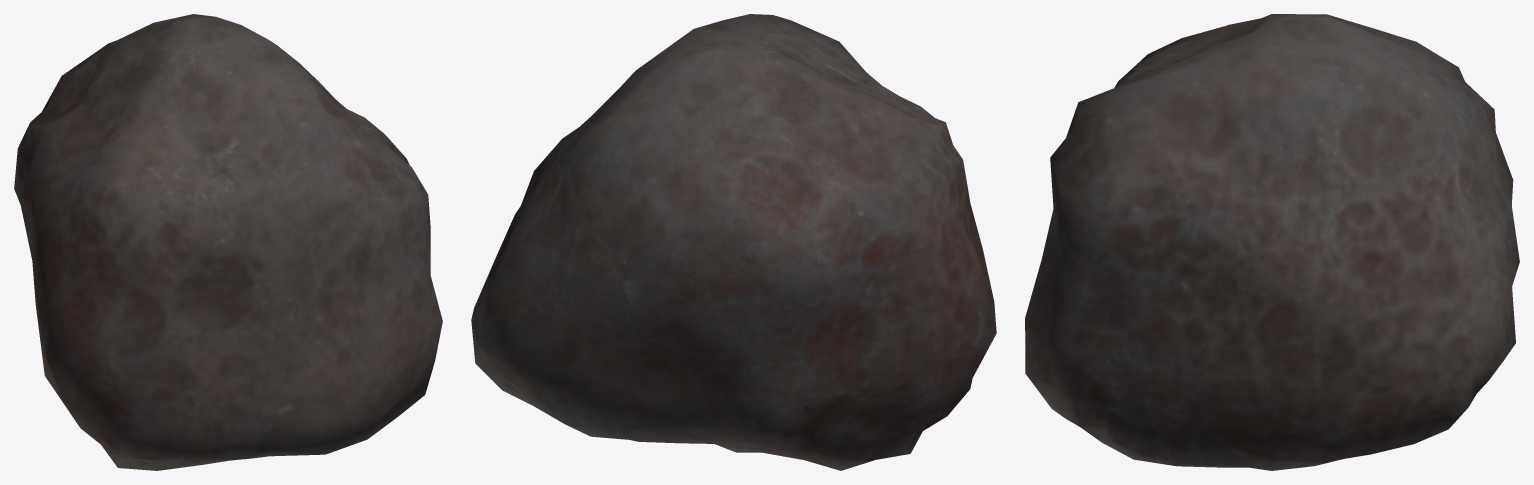
File: asteroid4.dae
3 renders of one model, left to right at view 1: azimuth 30°, elevation 25°; view 2: azimuth 150°, elevation 25°; view 3: azimuth 270°, elevation 25°, orthographic. The views are drawn at different scales.
Parts seen in each view (by area): view 1: Lp04; view 2: Lp04; view 3: Lp04.
Part boxes in pixels (x1,y1,x2,y2): Lp04: (14, 14, 442, 470); Lp04: (471, 14, 996, 470); Lp04: (1025, 14, 1519, 470).
Bounding box in the file's own units: 7.14 × 6.82 × 7.13.
1 material, 1 textured.
